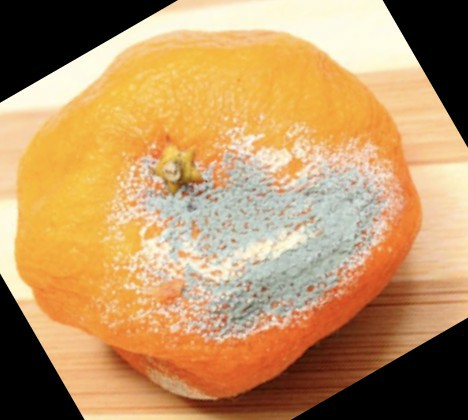rotten_orange: (20, 28, 428, 397)
